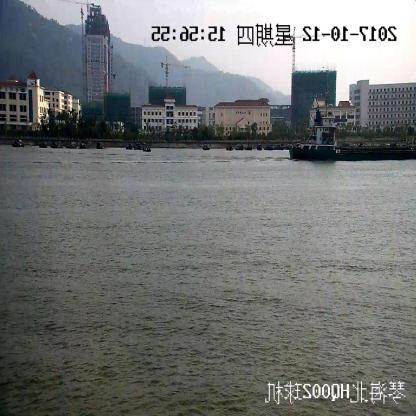Bulk Carrier: (289, 115, 416, 161)
